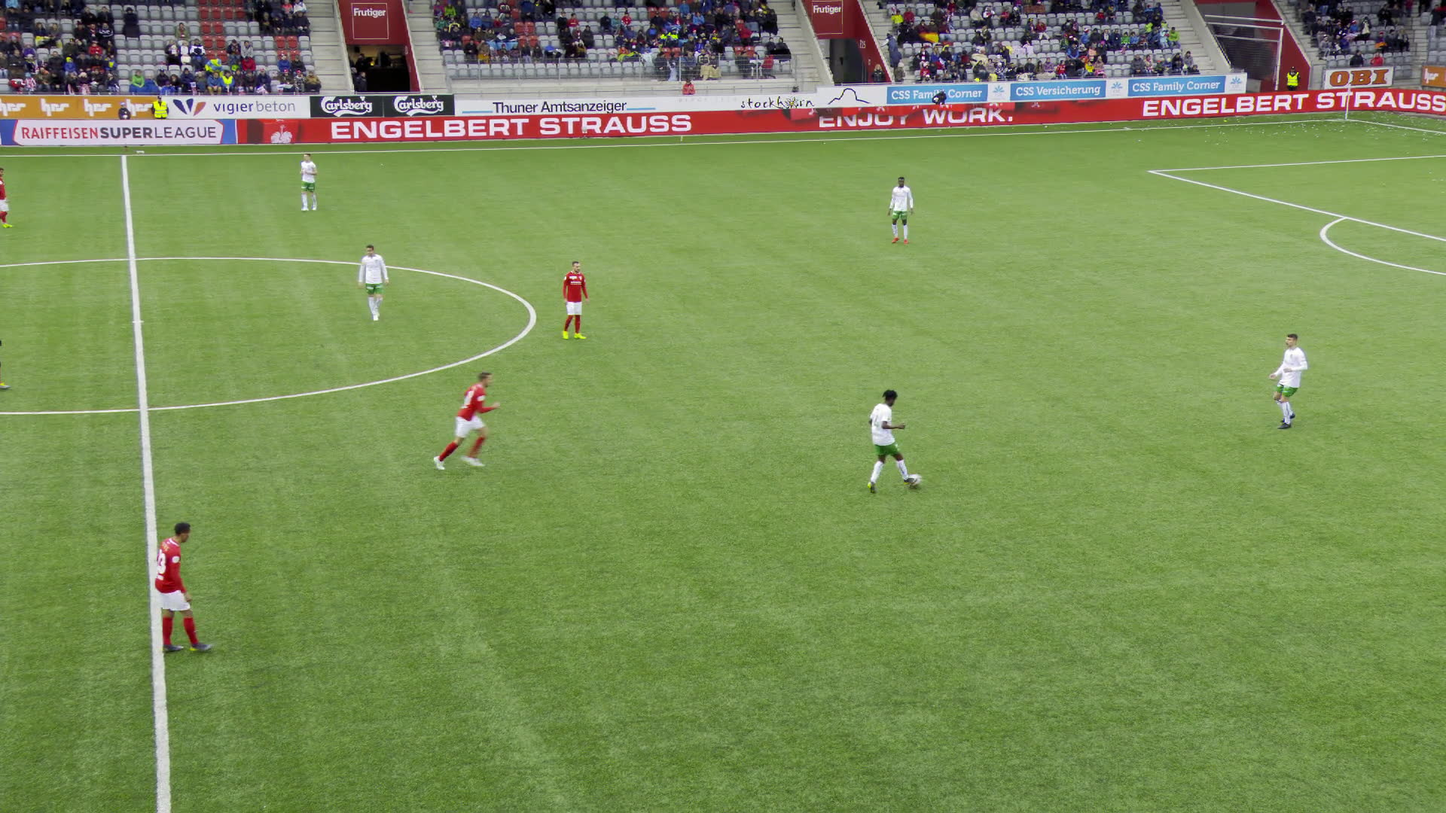ball: (915, 469, 934, 485)
player: (152, 519, 213, 653), (431, 371, 502, 467), (867, 389, 917, 496), (1267, 333, 1307, 432), (561, 262, 592, 340), (359, 245, 387, 324), (886, 175, 911, 245), (294, 154, 322, 212), (0, 331, 12, 390), (1, 167, 12, 230)
